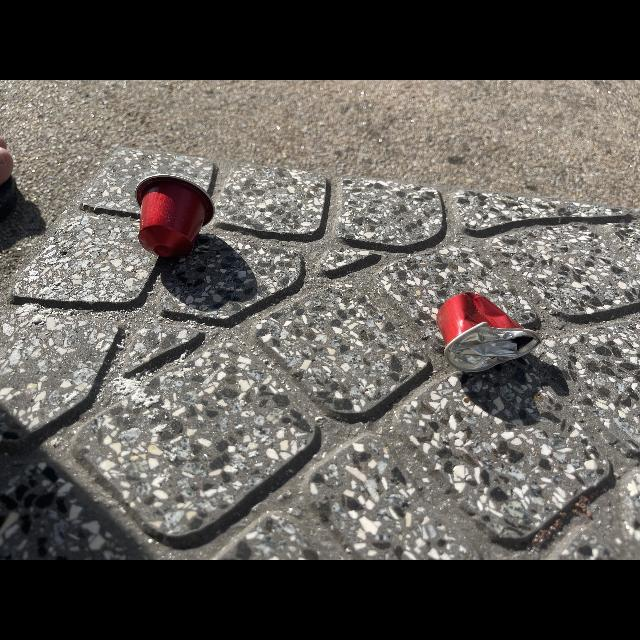damaged_capsule: (424, 278, 552, 388)
intact_capsule: (119, 166, 224, 264)
